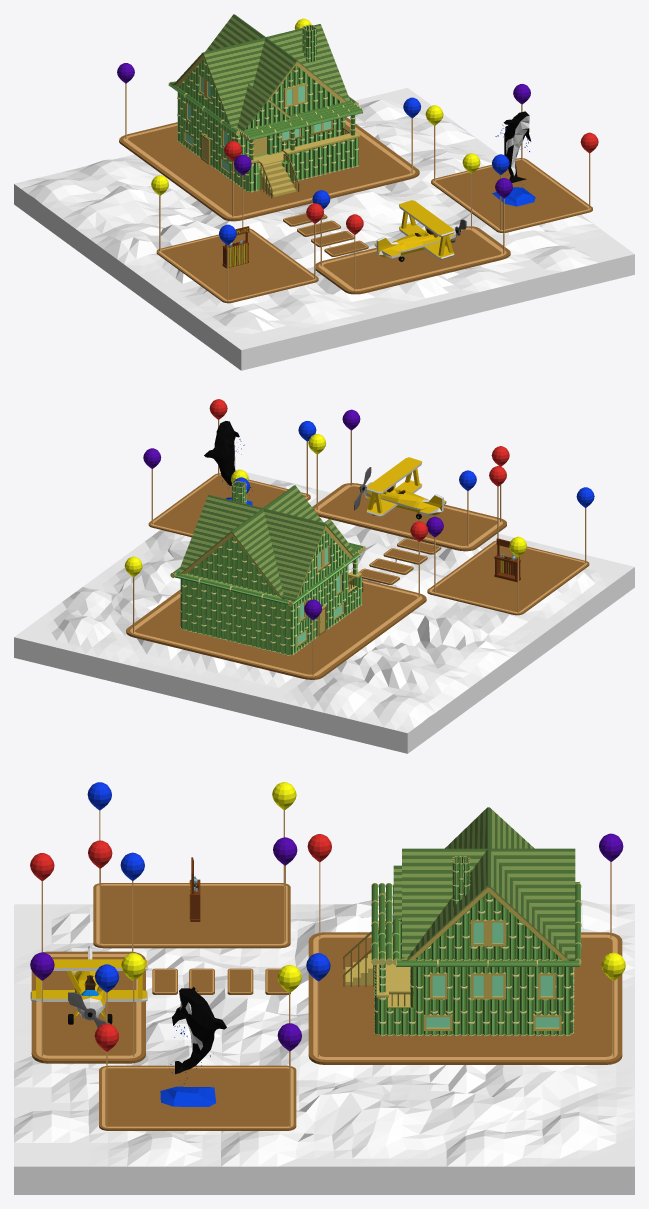
The picture shows the model from 3 angles, top to bottom: view 1: azimuth 30°, elevation 25°; view 2: azimuth 150°, elevation 25°; view 3: azimuth 270°, elevation 25°; orthographic projection. The views are drawn at different scales.
Parts seen in each view (by area): view 1: Cube.013, Cube.1327, VEHICLES_AIRPLANE, ANIMAL_ORCA, OBJRANDOM_LEMONADE_STAND; view 2: Cube.013, Cube.1327, VEHICLES_AIRPLANE, ANIMAL_ORCA, OBJRANDOM_LEMONADE_STAND; view 3: Cube.013, Cube.1327, VEHICLES_AIRPLANE, ANIMAL_ORCA, OBJRANDOM_LEMONADE_STAND.
Part boxes in pixels (bbox=[...]): Cube.013: bbox=[14, 18, 634, 370]; Cube.1327: bbox=[168, 14, 363, 198]; VEHICLES_AIRPLANE: bbox=[374, 200, 466, 261]; ANIMAL_ORCA: bbox=[492, 111, 535, 206]; OBJRANDOM_LEMONADE_STAND: bbox=[222, 226, 249, 268]; Cube.013: bbox=[14, 399, 634, 753]; Cube.1327: bbox=[170, 481, 365, 655]; VEHICLES_AIRPLANE: bbox=[354, 457, 446, 519]; ANIMAL_ORCA: bbox=[204, 421, 252, 505]; OBJRANDOM_LEMONADE_STAND: bbox=[494, 538, 520, 581]; Cube.013: bbox=[14, 782, 634, 1194]; Cube.1327: bbox=[343, 807, 581, 1036]; VEHICLES_AIRPLANE: bbox=[30, 946, 147, 1027]; ANIMAL_ORCA: bbox=[160, 987, 226, 1106]; OBJRANDOM_LEMONADE_STAND: bbox=[189, 857, 200, 921].
Bounding box in the file's own units: 4000 × 1719 × 4000.
Materials: 37 (3 with a texture image).
